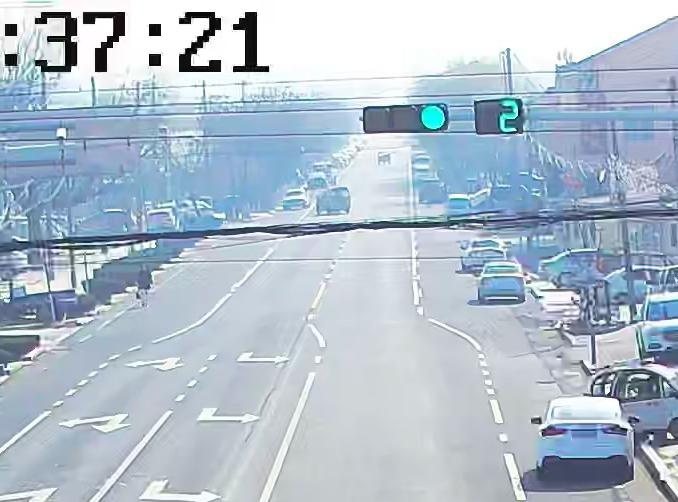green: (418, 102, 450, 130)
greentime: (494, 98, 521, 133)
